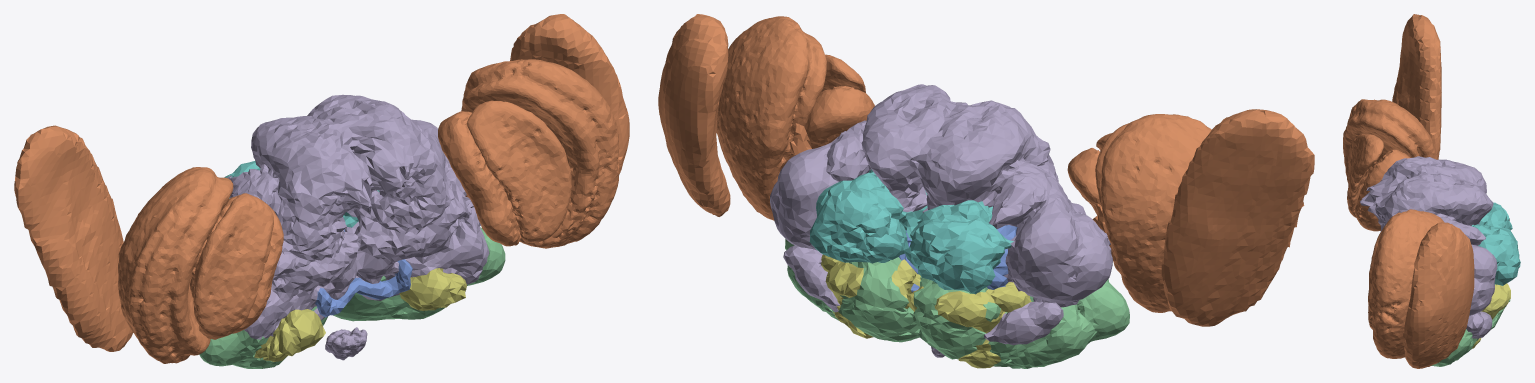
File: neuropil-regions.glb
3 renders of one model, left to right at view 1: azimuth 30°, elevation 25°; view 2: azimuth 150°, elevation 25°; view 3: azimuth 270°, elevation 25°, orthographic. The views are drawn at different scales.
Visible parts, largest first — view 1: GNG, LA_L, ME_L, ME_R, LOP_R, LOP_L, LA_R, LO_R, SPS_R, IPS_R, PLP_R, IPS_L (+12 smaller); view 2: LA_L, ME_R, ME_L, GNG, LA_R, AVLP_L, AL_L, AL_R, AVLP_R, SLP_L, LO_R, PRW (+18 smaller); view 3: LA_R, GNG, ME_R, LA_L, ME_L, LOP_L, AL_R, AVLP_R, LO_L, AOTU_R, AL_L, SLP_R (+3 smaller).
Boxes of the visible parts, left/top/right/bottom form: GNG: left=251, top=94, right=437, bottom=230; LA_L: left=14, top=125, right=133, bottom=351; ME_L: left=118, top=167, right=233, bottom=363; ME_R: left=461, top=59, right=619, bottom=248; LOP_R: left=467, top=100, right=571, bottom=242; LOP_L: left=192, top=193, right=273, bottom=339; LA_R: left=510, top=14, right=629, bottom=174; LO_R: left=438, top=111, right=521, bottom=246; SPS_R: left=347, top=190, right=451, bottom=263; IPS_R: left=370, top=159, right=454, bottom=234; PLP_R: left=436, top=181, right=489, bottom=284; IPS_L: left=265, top=192, right=346, bottom=268; LA_L: left=1161, top=109, right=1314, bottom=326; ME_R: left=716, top=16, right=826, bottom=220; ME_L: left=1095, top=114, right=1211, bottom=312; GNG: left=861, top=84, right=1053, bottom=205; LA_R: left=658, top=14, right=730, bottom=216; AVLP_L: left=1005, top=193, right=1112, bottom=307; AL_L: left=904, top=200, right=1013, bottom=294; AL_R: left=809, top=171, right=908, bottom=263; AVLP_R: left=770, top=137, right=838, bottom=250; SLP_L: left=1008, top=304, right=1097, bottom=368; LO_R: left=804, top=86, right=874, bottom=148; PRW: left=867, top=154, right=969, bottom=205; LA_R: left=1403, top=222, right=1474, bottom=368; GNG: left=1360, top=156, right=1491, bottom=225; ME_R: left=1368, top=209, right=1444, bottom=358; LA_L: left=1392, top=14, right=1441, bottom=159; ME_L: left=1343, top=99, right=1437, bottom=181; LOP_L: left=1347, top=134, right=1383, bottom=217; AL_R: left=1471, top=224, right=1520, bottom=285; AVLP_R: left=1469, top=244, right=1497, bottom=316; LO_L: left=1355, top=149, right=1409, bottom=231; AOTU_R: left=1466, top=311, right=1492, bottom=338; AL_L: left=1479, top=202, right=1512, bottom=230; SLP_R: left=1431, top=329, right=1476, bottom=366.
Size of the model in its own units: 8.08 by 3.82 by 2.74.
